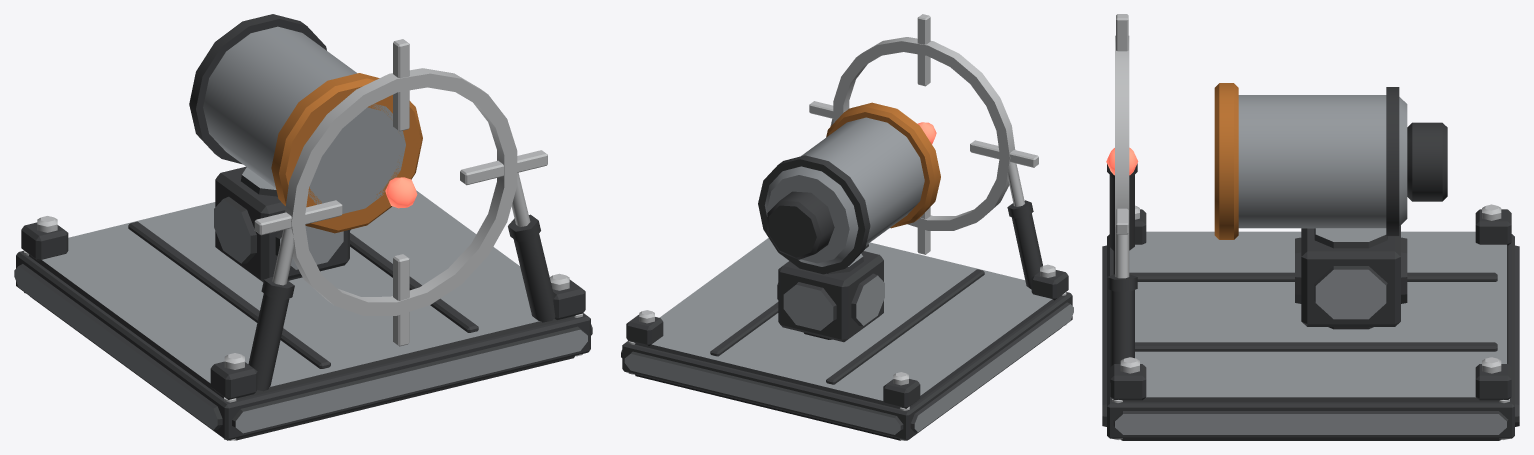
File: R4X_WeakPointScanner.fbx
3 renders of one model, left to right at view 1: azimuth 30°, elevation 25°; view 2: azimuth 150°, elevation 25°; view 3: azimuth 270°, elevation 25°, orthographic. The views are drawn at different scales.
Parts seen in each view (by area): view 1: R4X_WeakPointScanner_Body; view 2: R4X_WeakPointScanner_Body; view 3: R4X_WeakPointScanner_Body.
Boxes of the visible parts, x1,y1,x2,y2 form: R4X_WeakPointScanner_Body: (14, 14, 592, 440); R4X_WeakPointScanner_Body: (621, 14, 1073, 440); R4X_WeakPointScanner_Body: (1102, 14, 1519, 440).
Size of the model in its own units: 0.52 by 0.47 by 0.52.
